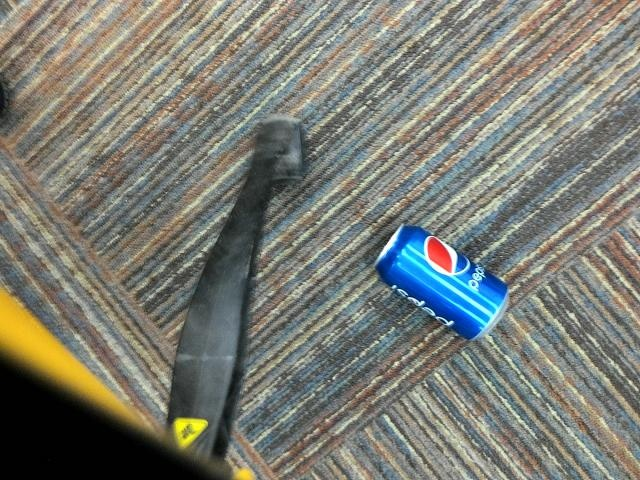can: (366, 216, 521, 348)
